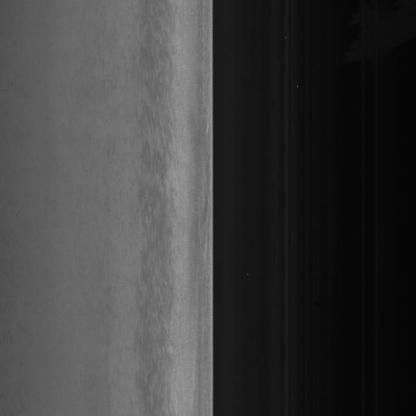silk_spot: (142, 163, 186, 293)
